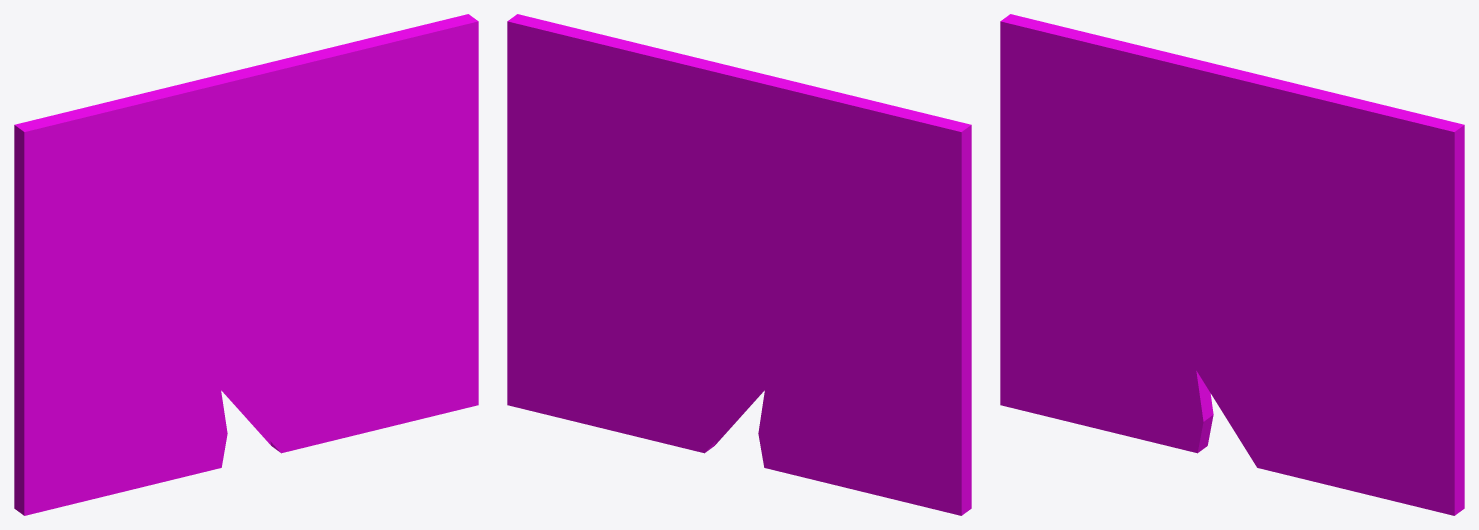
Rendered from SNUH_WallFull.fbx.
3 renders of one model, left to right at view 1: azimuth 30°, elevation 25°; view 2: azimuth 150°, elevation 25°; view 3: azimuth 330°, elevation 25°, orthographic.
Visible parts, largest first — view 1: Wall.004; view 2: Wall.004; view 3: Wall.004.
Boxes of the visible parts, x1,y1,x2,y2 form: Wall.004: (14, 14, 478, 515); Wall.004: (507, 14, 971, 515); Wall.004: (1000, 14, 1464, 515).
Size of the model in its own units: 260 by 210 by 10.
